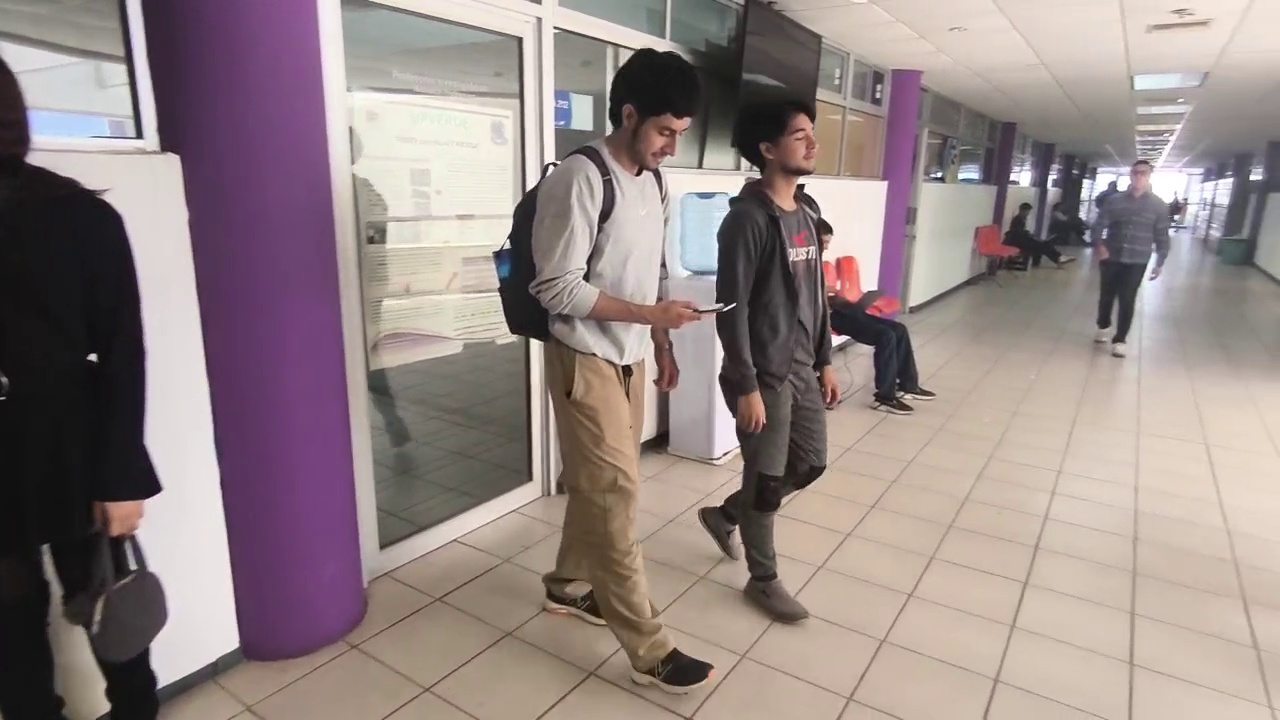mixto2: (691, 297, 739, 317)
